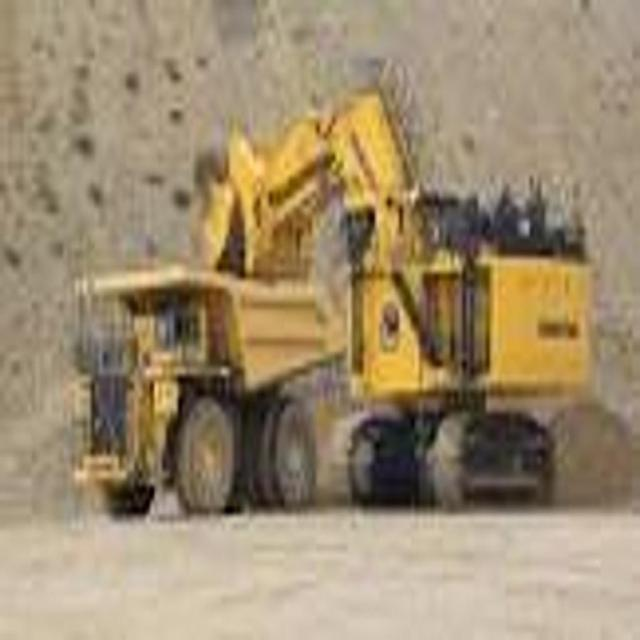dump_truck: (66, 261, 348, 513)
